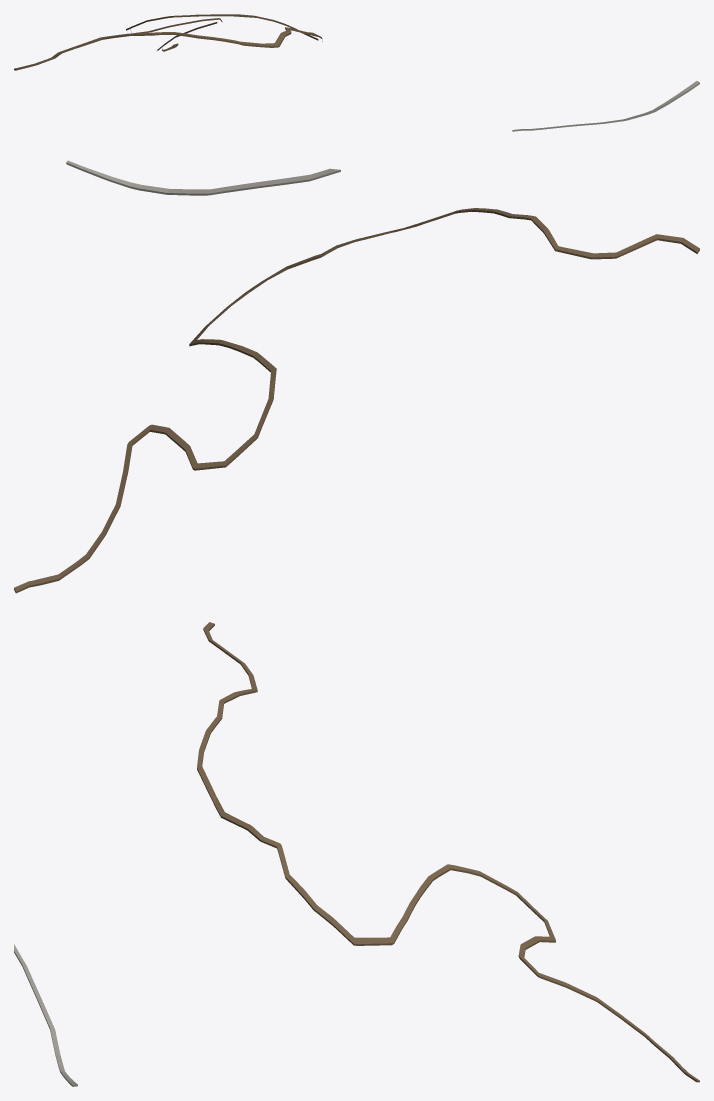
The picture shows the model from 3 angles, top to bottom: view 1: azimuth 30°, elevation 25°; view 2: azimuth 150°, elevation 25°; view 3: azimuth 270°, elevation 25°; orthographic projection. The views are drawn at different scales.
Bounding box in the file's own units: 270 × 98.4 × 235.
